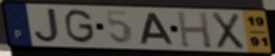5: (104, 9, 136, 46)
A: (139, 11, 177, 47)
G: (64, 8, 97, 45)
H: (175, 10, 214, 50)
J: (32, 7, 61, 44)
X: (210, 11, 246, 51)
